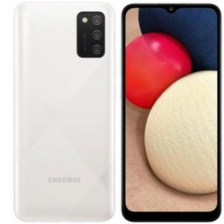phone: (11, 0, 119, 224), (118, 2, 222, 223)
